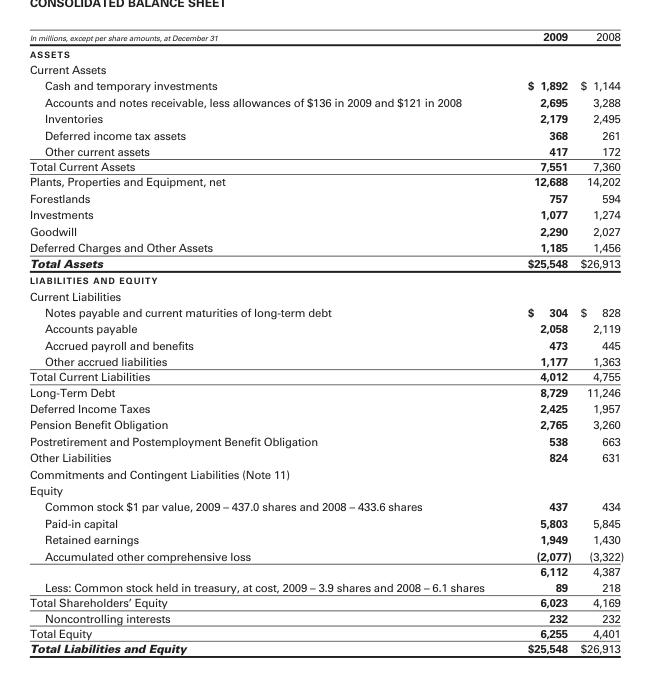table: (28, 29, 623, 654)
table column: (28, 29, 505, 654), (505, 29, 575, 654), (575, 29, 623, 654)
table column header: (28, 29, 623, 45)
table projected row header: (28, 60, 623, 77), (28, 481, 623, 498), (28, 287, 623, 303), (28, 465, 623, 481), (28, 45, 623, 60), (28, 272, 623, 287)
table row: (28, 254, 623, 272), (28, 60, 623, 77), (28, 93, 623, 110), (28, 205, 623, 222), (28, 303, 623, 320), (28, 336, 623, 353), (28, 399, 623, 416), (28, 432, 623, 449), (28, 481, 623, 498), (28, 514, 623, 531), (28, 29, 623, 45), (28, 77, 623, 93), (28, 110, 623, 126), (28, 126, 623, 142), (28, 142, 623, 158), (28, 173, 623, 189), (28, 189, 623, 205), (28, 222, 623, 238), (28, 238, 623, 254), (28, 287, 623, 303), (28, 320, 623, 336), (28, 368, 623, 384), (28, 416, 623, 432), (28, 449, 623, 465), (28, 465, 623, 481), (28, 498, 623, 514), (28, 531, 623, 547), (28, 547, 623, 563), (28, 563, 623, 579), (28, 594, 623, 610), (28, 45, 623, 60), (28, 158, 623, 173), (28, 272, 623, 287), (28, 353, 623, 368), (28, 384, 623, 399), (28, 579, 623, 594), (28, 610, 623, 625), (28, 625, 623, 640), (28, 640, 623, 654)
